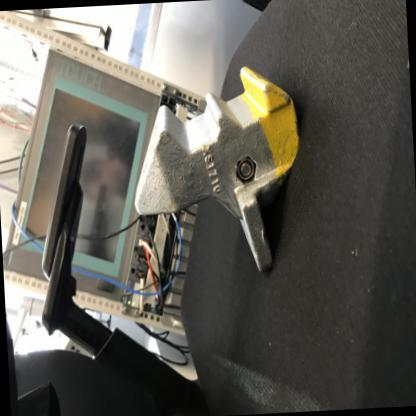Twistlock: (123, 55, 315, 287)
